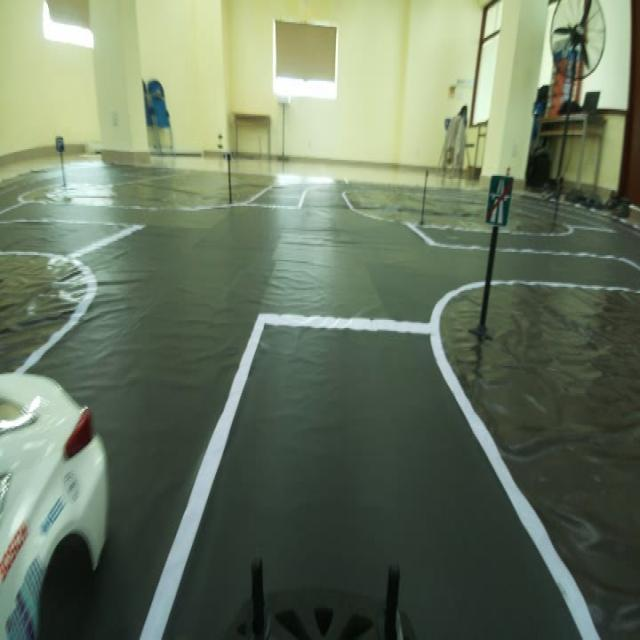highway_exit: (478, 164, 520, 242)
